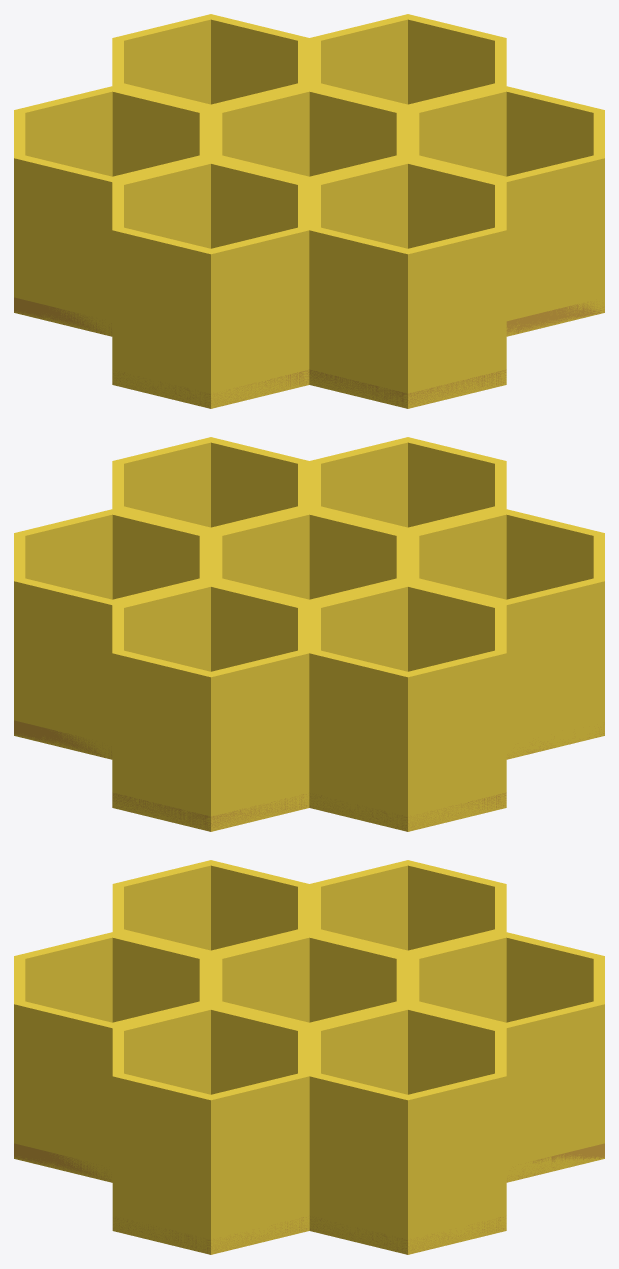
Rendered from bresca.glb.
The picture shows the model from 3 angles, top to bottom: view 1: azimuth 30°, elevation 25°; view 2: azimuth 150°, elevation 25°; view 3: azimuth 270°, elevation 25°; orthographic projection.
Size of the model in its own units: 100 by 30 by 104.
